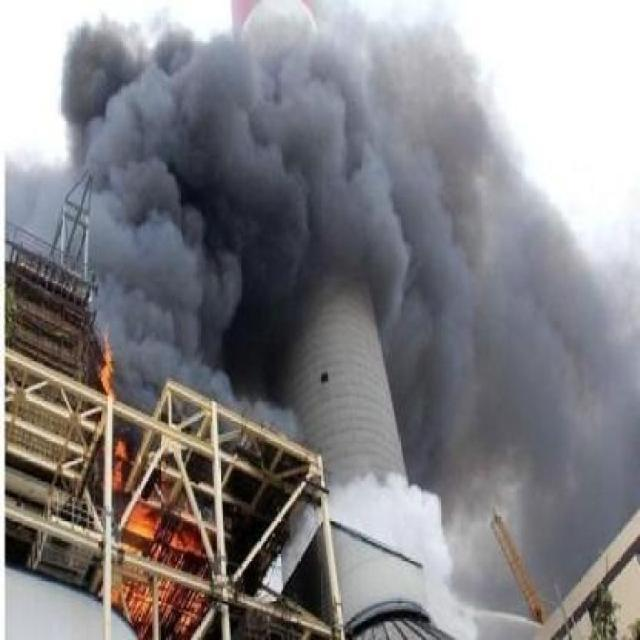Fire: (124, 510, 216, 636), (91, 335, 120, 405), (110, 429, 131, 497)
Smoke: (64, 2, 491, 330), (395, 333, 640, 500), (497, 154, 605, 330), (128, 337, 302, 428)
